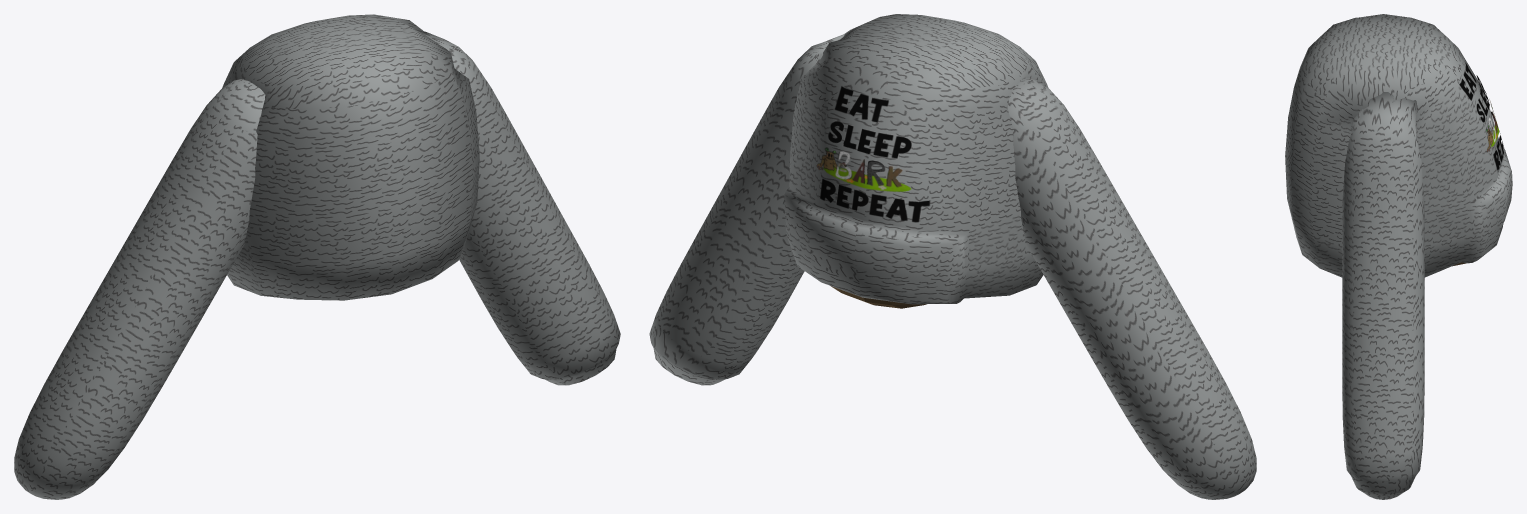
File: item-gamer-hoodie.glb
3 views of the same model, side by side, from view 1: azimuth 30°, elevation 25°; view 2: azimuth 150°, elevation 25°; view 3: azimuth 270°, elevation 25° (orthographic). The views are drawn at different scales.
Size of the model in its own units: 0.0958 by 0.0615 by 0.0354.
3 materials, 3 textured.
